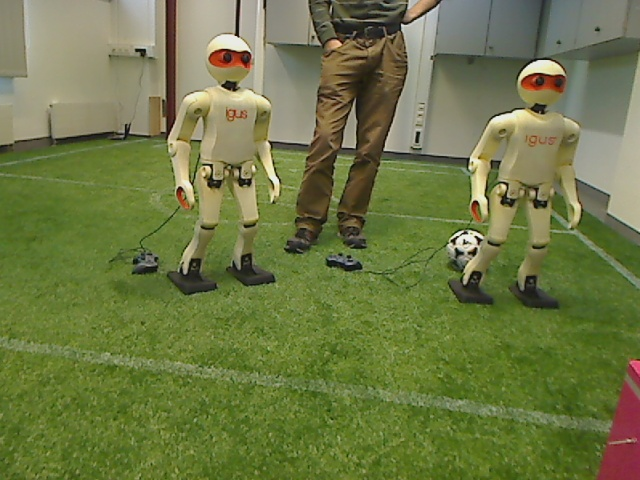ball: (444, 227, 489, 272)
robot: (460, 56, 585, 312), (166, 31, 286, 297)
